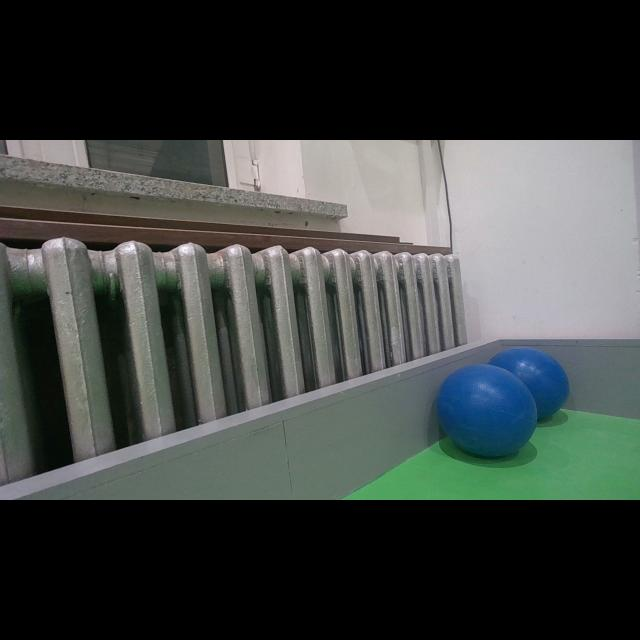B: (437, 363, 538, 457), (491, 345, 573, 419)
